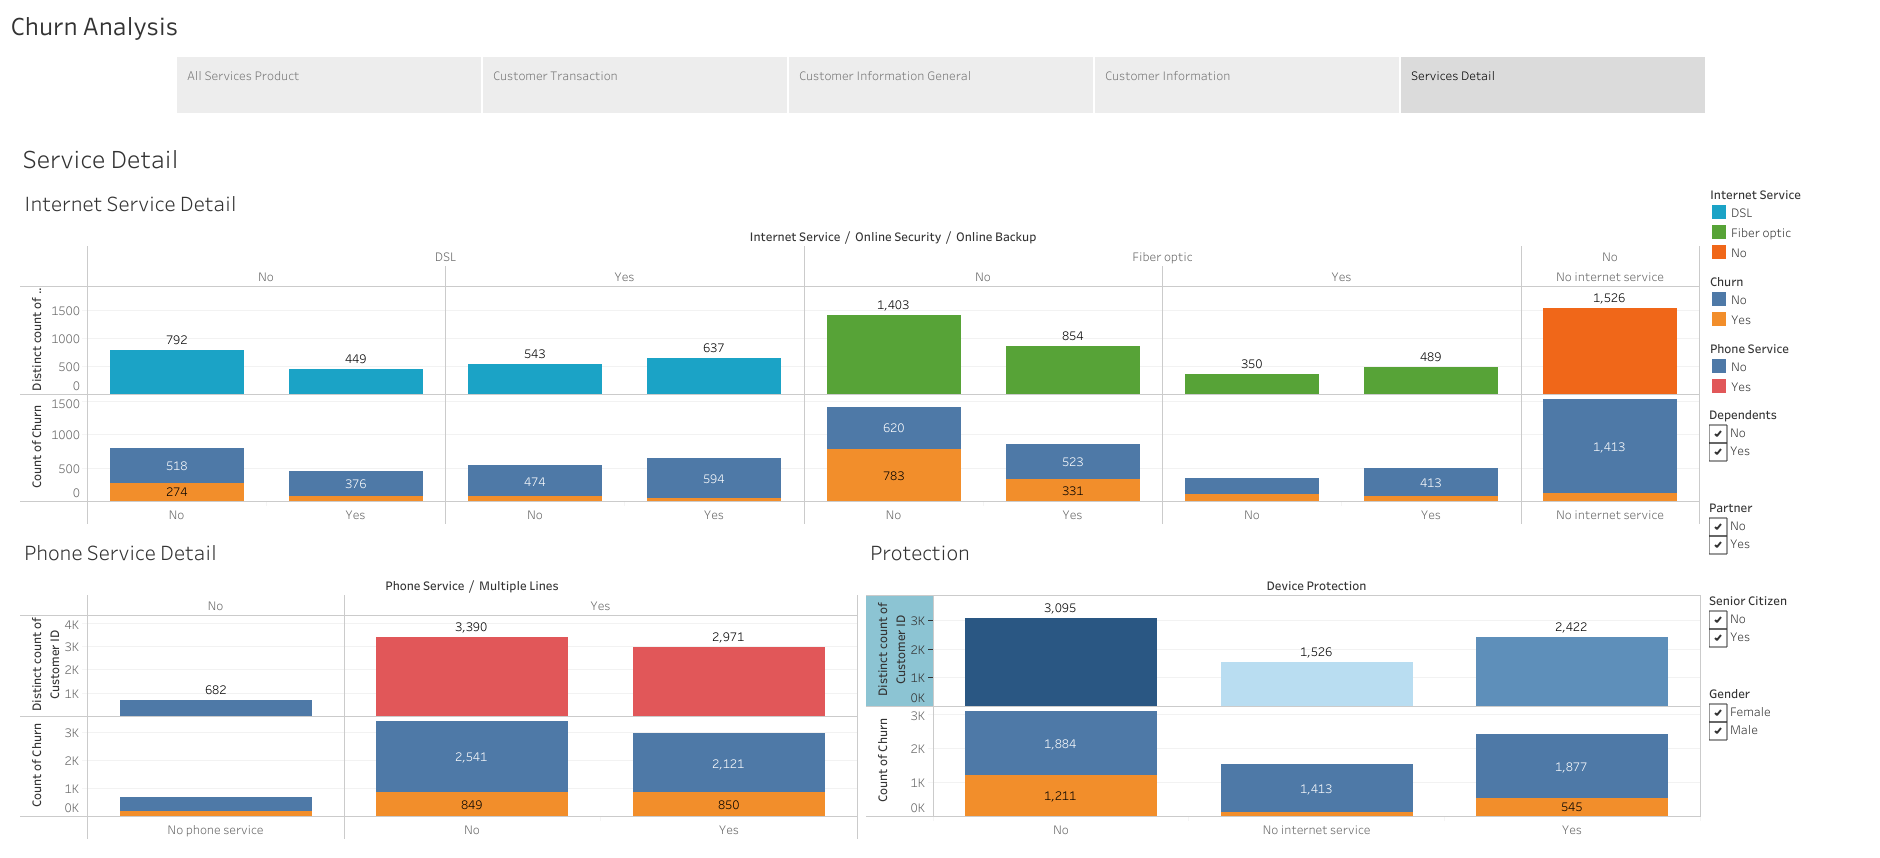

The dashboard page shown, as its layout file describes it:
{"tool":"tableau","page":{"name":"Supports","canvas":[1000,1000],"units":"permille","ordinal":3},"visuals":[{"type":"title","box":[5,8.9,990,64.2]},{"type":"worksheet","title":"Internet Service Detail","mark":"Automatic","rows":["customerID","Churn"],"cols":["InternetService","OnlineSecurity","OnlineBackup"],"box":[5,73.1,550.5,482.8]},{"type":"worksheet","title":"Support","mark":"Automatic","rows":["customerID","Churn"],"cols":["TechSupport"],"box":[555.5,73.1,339.8,482.8]},{"type":"legend","title":"Internet Service Detail","param":"[federated.1x5i6qo1mtnrea17tiwl011l1hrs].[none:InternetService:nk]","box":[895.3,73.1,99.8,120.7]},{"type":"legend","title":"Internet Service Detail","param":"[federated.1x5i6qo1mtnrea17tiwl011l1hrs].[none:Churn:nk]","box":[895.3,193.8,99.8,93]},{"type":"legend","title":"Support","param":"[federated.1x5i6qo1mtnrea17tiwl011l1hrs].[none:TechSupport:nk]","box":[895.3,286.8,99.8,120.7]},{"type":"legend","title":"Phone Service Detail","param":"[federated.1x5i6qo1mtnrea17tiwl011l1hrs].[none:PhoneService:nk]","box":[895.3,407.5,99.8,93]},{"type":"filter","title":"Phone Service Detail","param":"[federated.1x5i6qo1mtnrea17tiwl011l1hrs].[none:Dependents:nk]","box":[895.3,500.6,99.8,122.6]},{"type":"worksheet","title":"Phone Service Detail","mark":"Automatic","rows":["customerID","Churn"],"cols":["PhoneService","MultipleLines"],"box":[5,555.9,445.8,435.2]},{"type":"worksheet","title":"Protection","mark":"Automatic","rows":["customerID","Churn"],"cols":["DeviceProtection"],"box":[450.8,555.9,444.5,435.2]},{"type":"filter","title":"Phone Service Detail","param":"[federated.1x5i6qo1mtnrea17tiwl011l1hrs].[none:Partner:nk]","box":[895.3,623.2,99.8,122.6]},{"type":"filter","title":"Phone Service Detail","param":"[federated.1x5i6qo1mtnrea17tiwl011l1hrs].[none:SeniorCitizen:nk]","box":[895.3,745.8,99.8,122.6]},{"type":"filter","title":"Phone Service Detail","param":"[federated.1x5i6qo1mtnrea17tiwl011l1hrs].[none:gender:nk]","box":[895.3,868.5,99.8,122.7]}]}

Visuals, with their boxes on the dashboard's canvas, which has no fixed pixel size, in thousandths of its width and height (x1, y1, x2, y2). These are canvas units, not pixel positions in the 1880x858 screenshot, which may show the page scaled, cropped or inside an application window:
title: [5, 9, 995, 73]
"Internet Service Detail" worksheet: [5, 73, 556, 556]
"Support" worksheet: [556, 73, 895, 556]
"Internet Service Detail" legend: [895, 73, 995, 194]
"Internet Service Detail" legend: [895, 194, 995, 287]
"Support" legend: [895, 287, 995, 408]
"Phone Service Detail" legend: [895, 408, 995, 500]
"Phone Service Detail" filter: [895, 501, 995, 623]
"Phone Service Detail" worksheet: [5, 556, 451, 991]
"Protection" worksheet: [451, 556, 895, 991]
"Phone Service Detail" filter: [895, 623, 995, 746]
"Phone Service Detail" filter: [895, 746, 995, 868]
"Phone Service Detail" filter: [895, 868, 995, 991]
